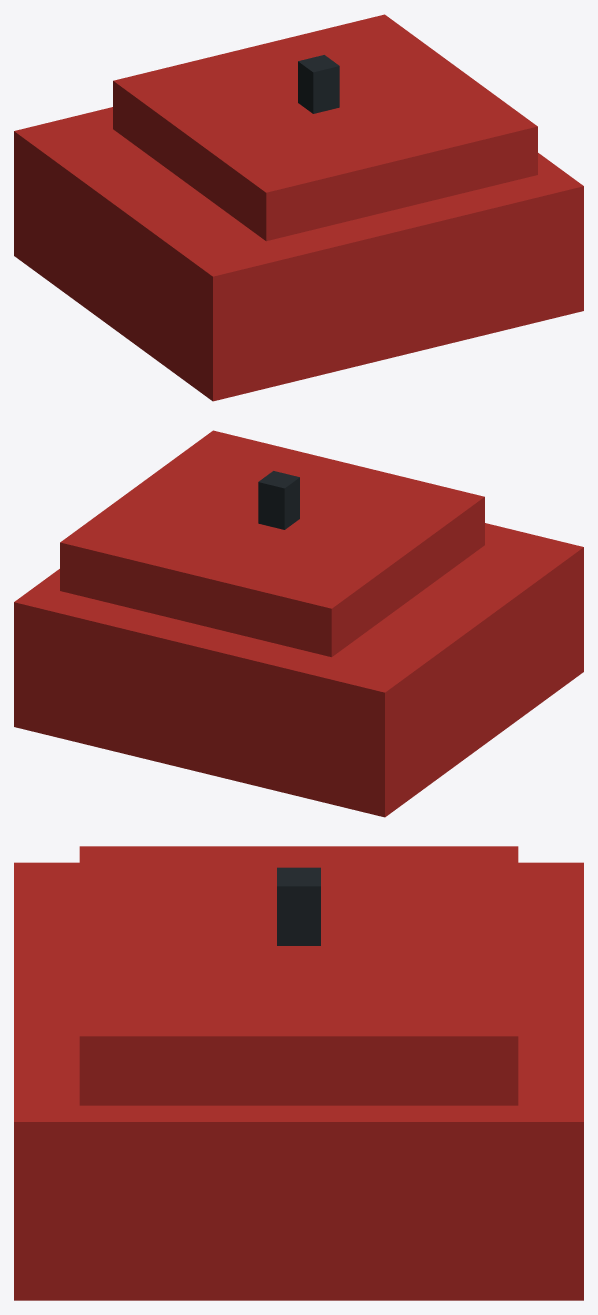
Rendered from red_beret.glb.
The picture shows the model from 3 angles, top to bottom: view 1: azimuth 30°, elevation 25°; view 2: azimuth 150°, elevation 25°; view 3: azimuth 270°, elevation 25°; orthographic projection. The views are drawn at different scales.
Visible parts, largest first — view 1: red_beret; view 2: red_beret; view 3: red_beret.
Part boxes in pixels (x1,y1,x2,y2): red_beret: [14, 14, 583, 401]; red_beret: [14, 430, 583, 817]; red_beret: [14, 846, 583, 1300].
Size of the model in its own units: 0.56 by 0.31 by 0.52.
